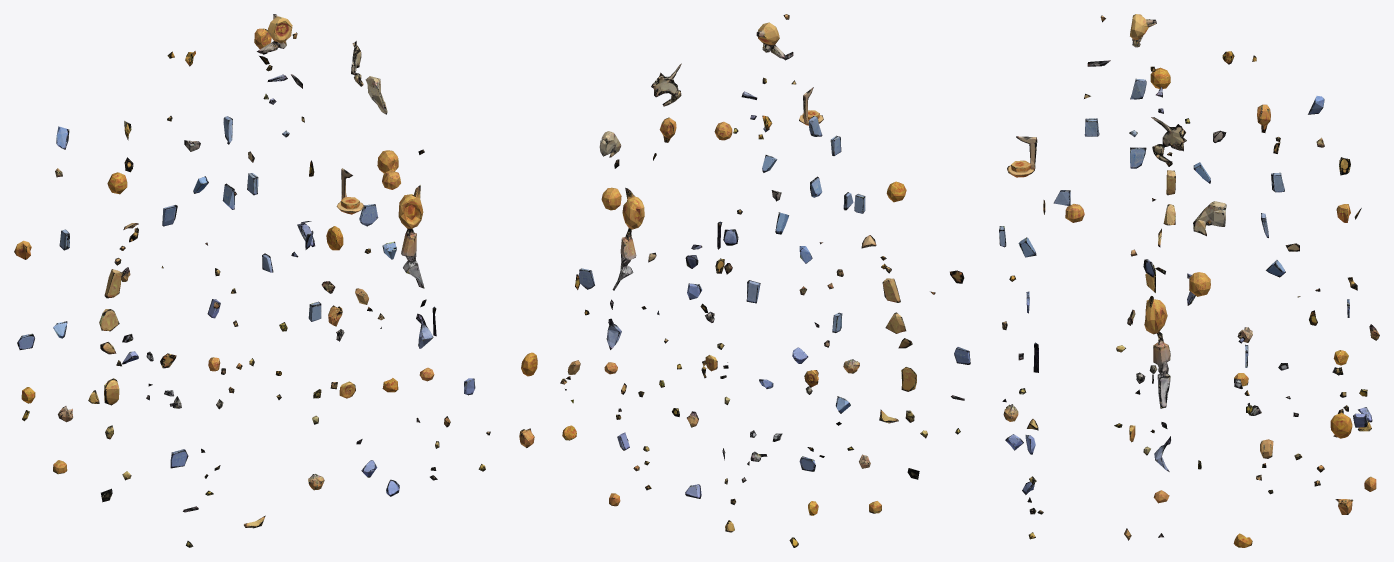
File: COMMON_사물_vfx_currency_collect_euro.glb
3 renders of one model, left to right at view 1: azimuth 30°, elevation 25°; view 2: azimuth 150°, elevation 25°; view 3: azimuth 270°, elevation 25°, orthographic. The views are drawn at different scales.
Parts seen in each view (by area): view 1: world; view 2: world; view 3: world.
Boxes of the visible parts, box(x1,y1,x2,y2) form: world: box(14, 14, 490, 547); world: box(519, 14, 970, 547); world: box(999, 14, 1379, 547).
Bounding box in the file's own units: 0.7949 × 0.9986 × 0.7622.
1 material, 1 textured.
